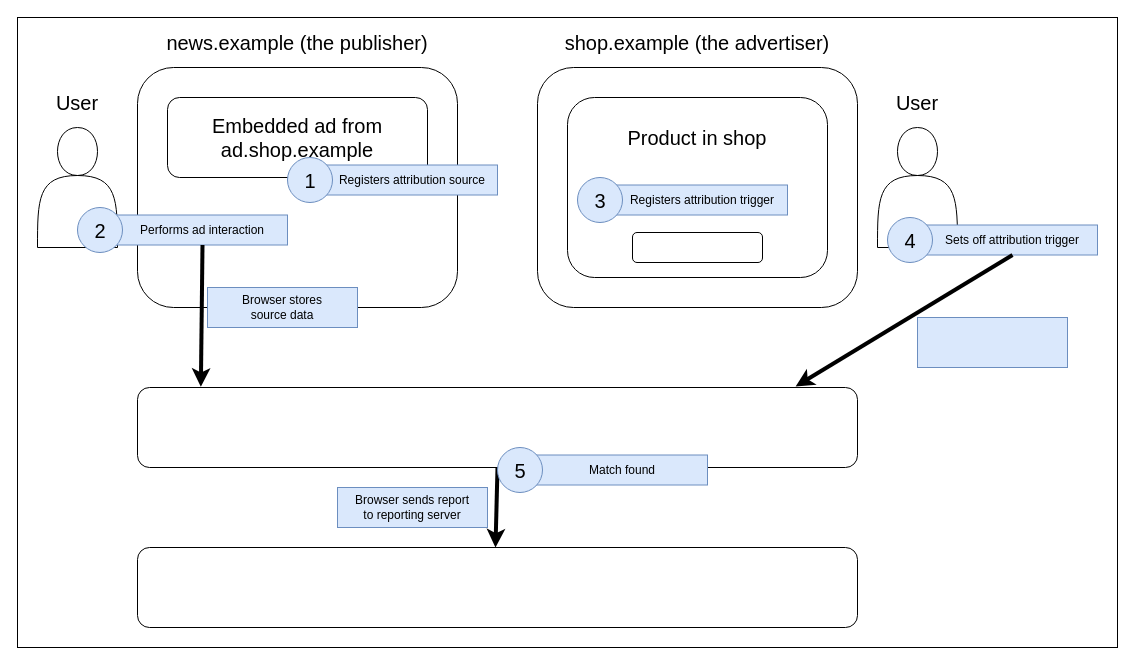
This 1135x665 diagram has some shape labels left out. Each missing label, with the centre of its shape:
"Add to cart" belongs at [697,247].
"Browser tries to match trigger with stored source data" belongs at [992,342].
"Reporting server" belongs at [497,587].
"Underlying web browser" belongs at [497,427].
